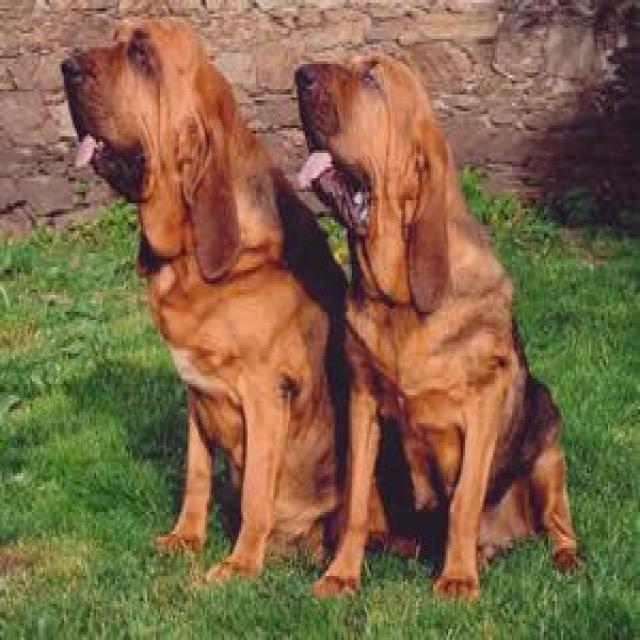bloodhound: (292, 44, 580, 606)
